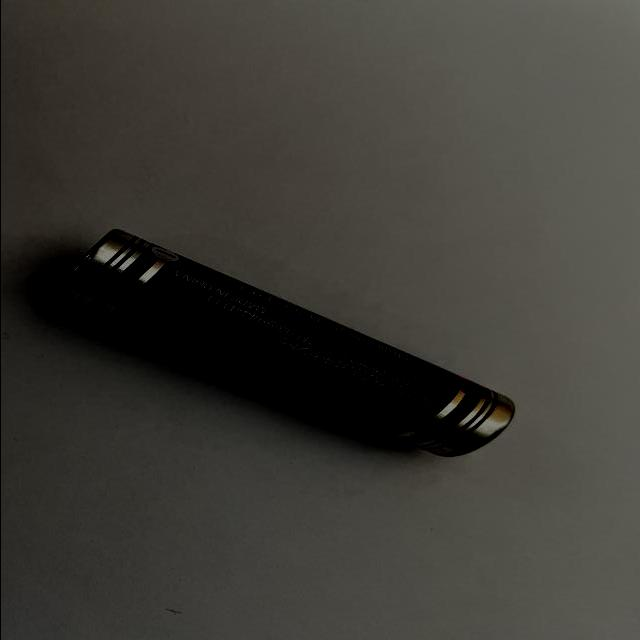AA: (42, 228, 520, 460)
